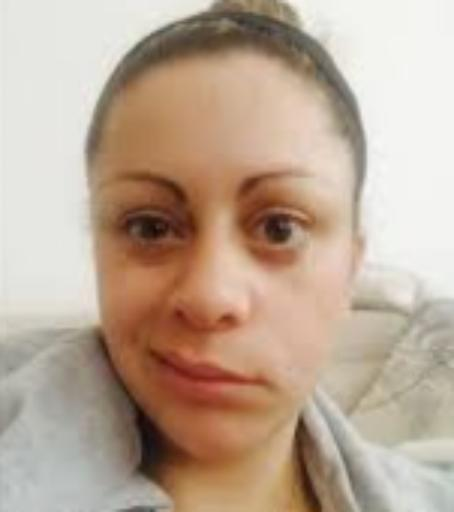left_eye: (246, 214, 312, 252)
left_lip_corner: (251, 372, 277, 397)
right_eye: (121, 216, 183, 246)
right_lip_corner: (146, 345, 166, 371)
